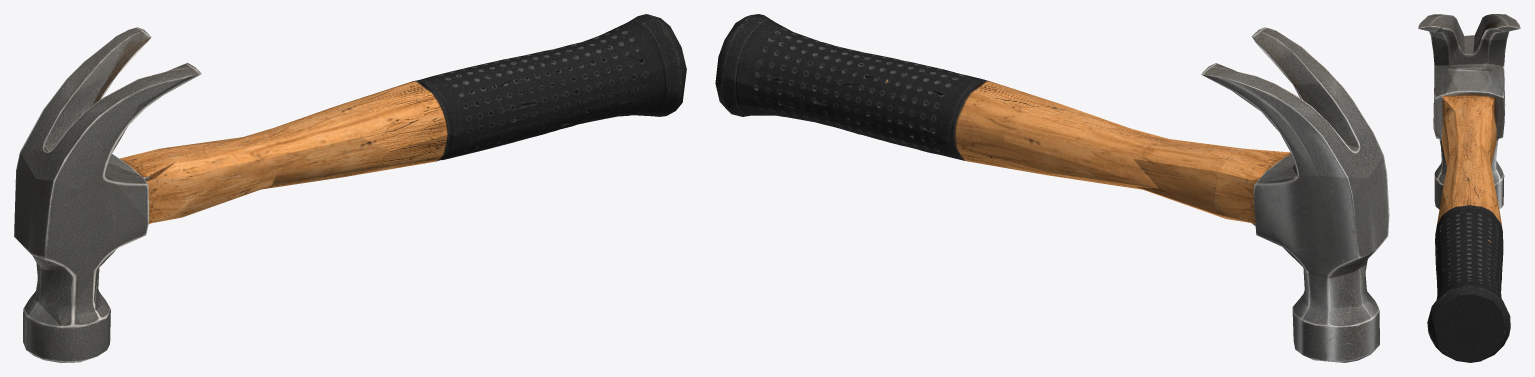
File: hammer.glb
The picture shows the model from 3 angles, left to right: view 1: azimuth 30°, elevation 25°; view 2: azimuth 150°, elevation 25°; view 3: azimuth 270°, elevation 25°; orthographic projection. The views are drawn at different scales.
Parts seen in each view (by area): view 1: output_unwrapped; view 2: output_unwrapped; view 3: output_unwrapped.
Part boxes in pixels (x1=…): output_unwrapped: x1=14, y1=14, x2=686, y2=362; output_unwrapped: x1=715, y1=14, x2=1389, y2=362; output_unwrapped: x1=1418, y1=14, x2=1520, y2=362.
Bounding box in the file's own units: 1.9 × 0.7879 × 0.3327.
1 material, 1 textured.
